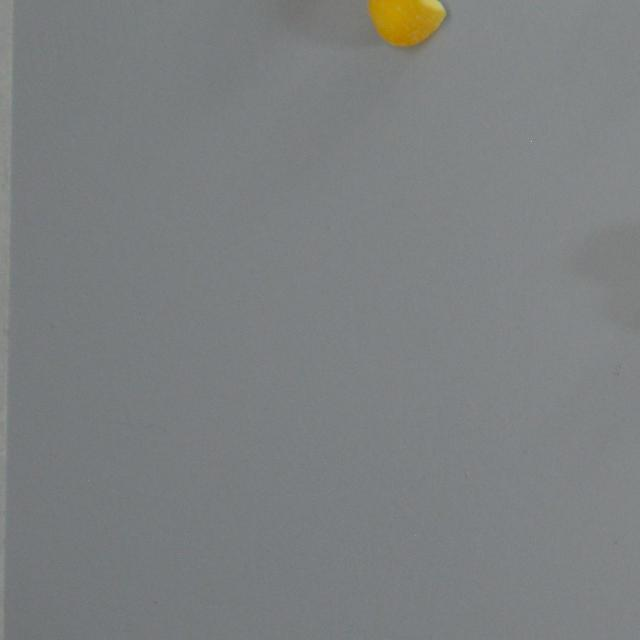no_desgerminado: (364, 0, 448, 50)
